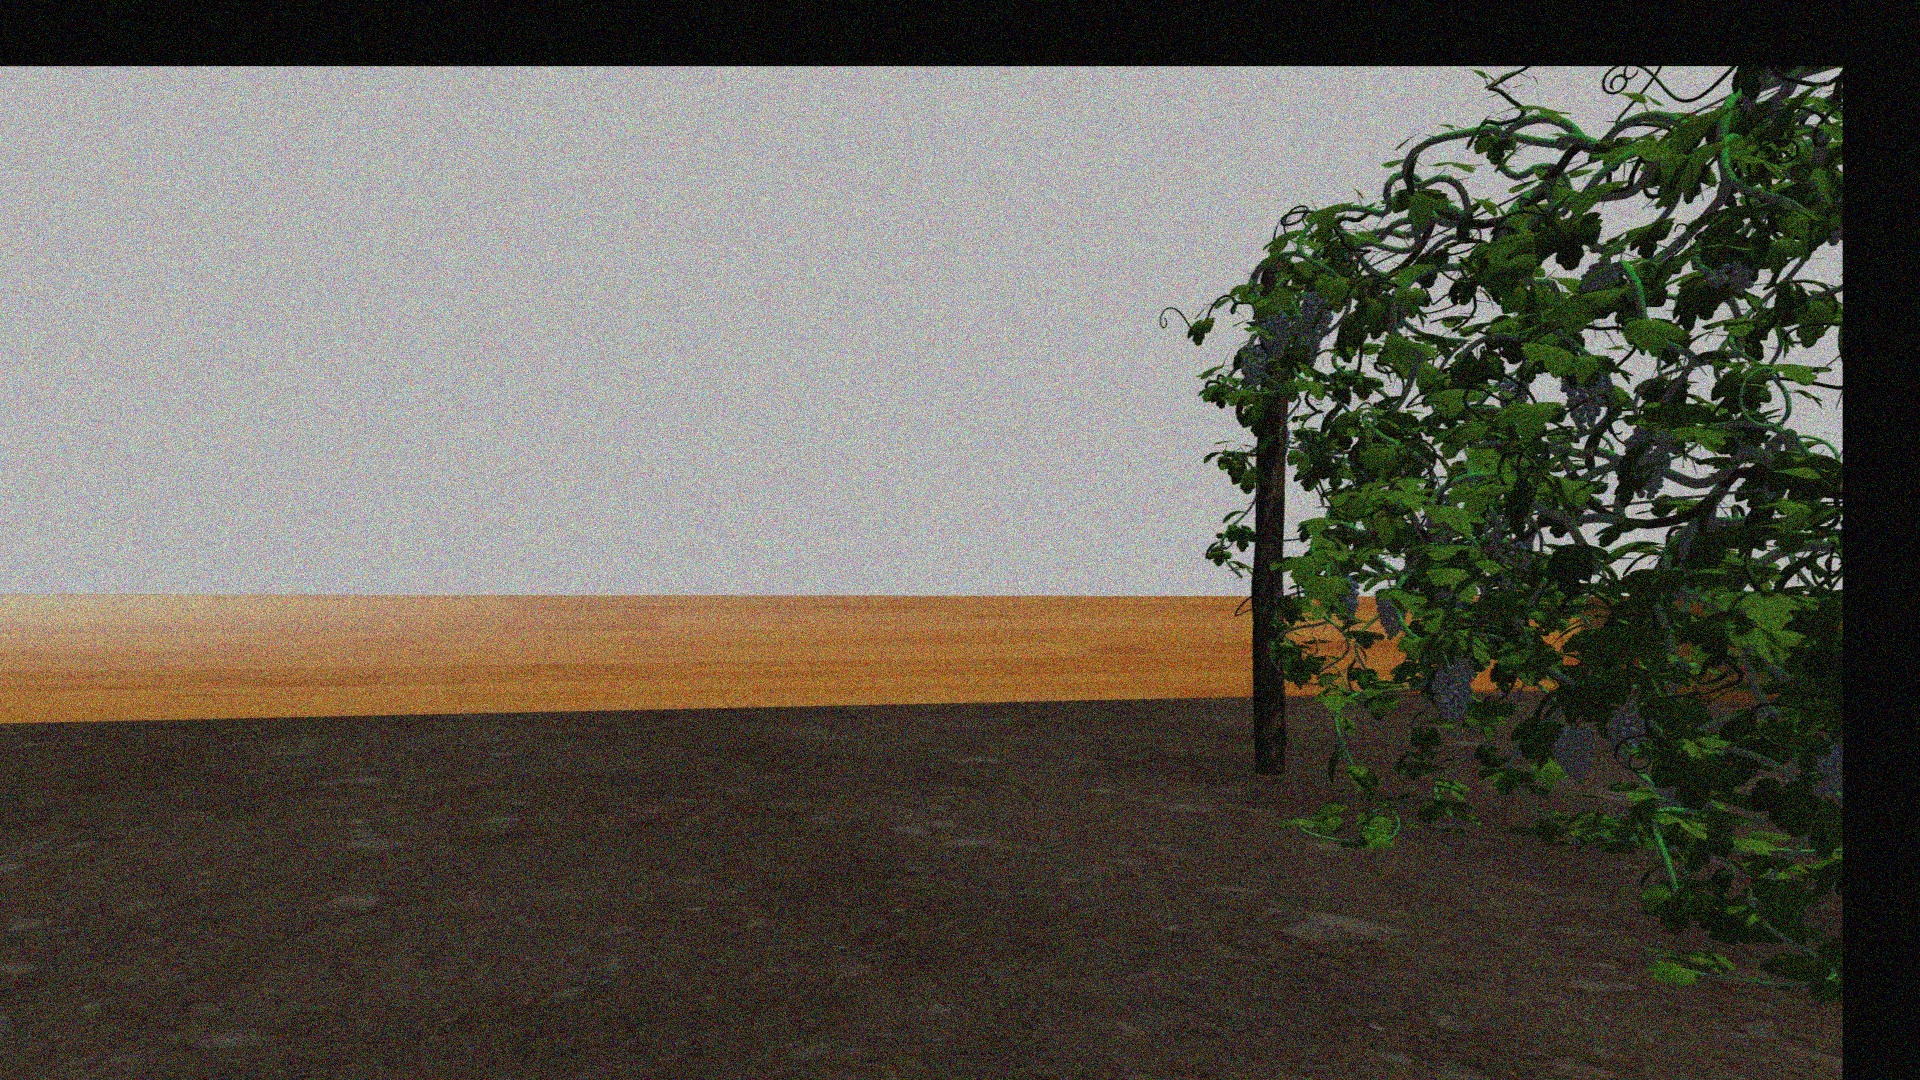grape: (1625, 429, 1671, 500), (1429, 657, 1474, 725), (1563, 368, 1610, 429), (1549, 727, 1596, 783), (1605, 711, 1644, 760), (1706, 261, 1756, 293), (1300, 291, 1333, 338), (1375, 588, 1404, 638), (1259, 311, 1288, 357), (1238, 347, 1266, 381), (1338, 580, 1360, 616)
